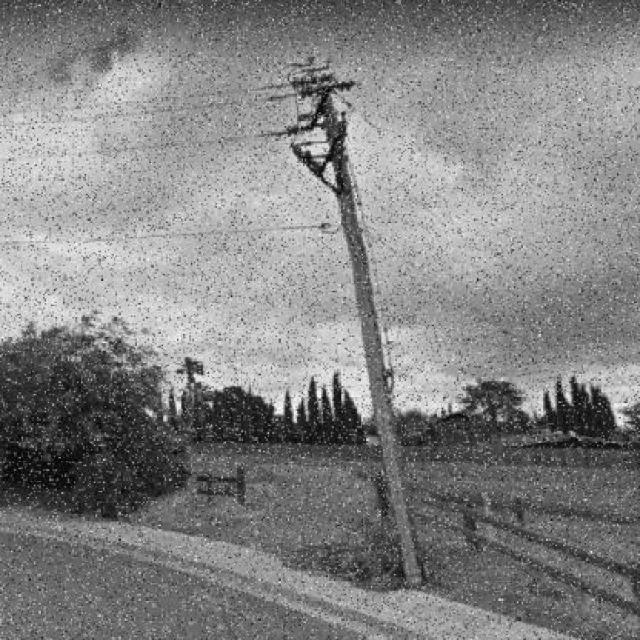pole: (225, 25, 440, 600)
